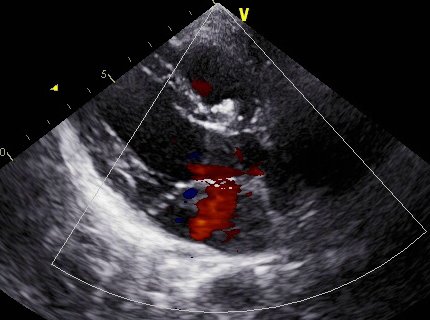AR: (176, 155, 274, 176)
